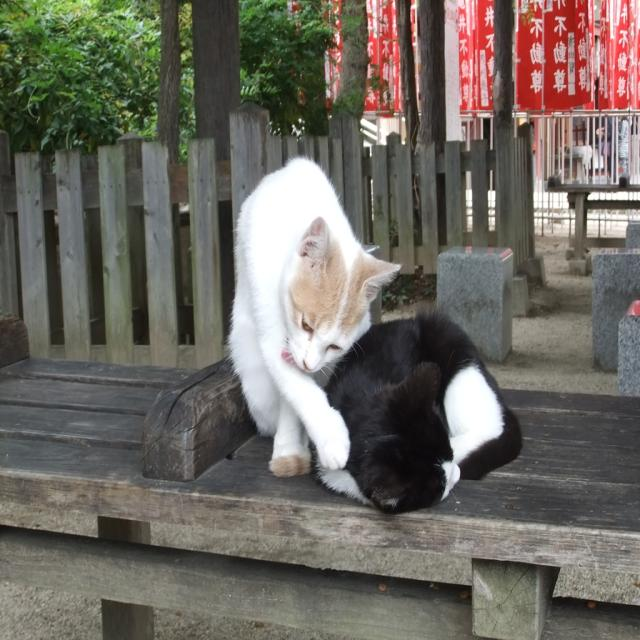Cat: (223, 153, 401, 480), (324, 301, 525, 517)
